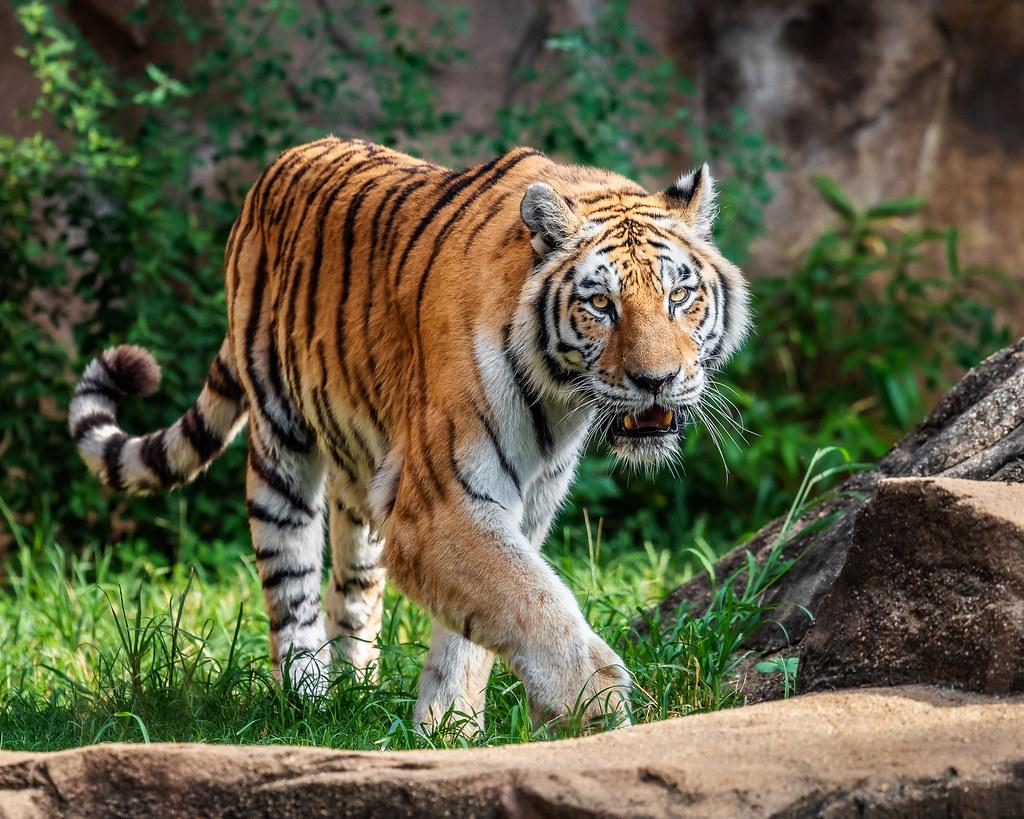tiger: (67, 133, 761, 746)
